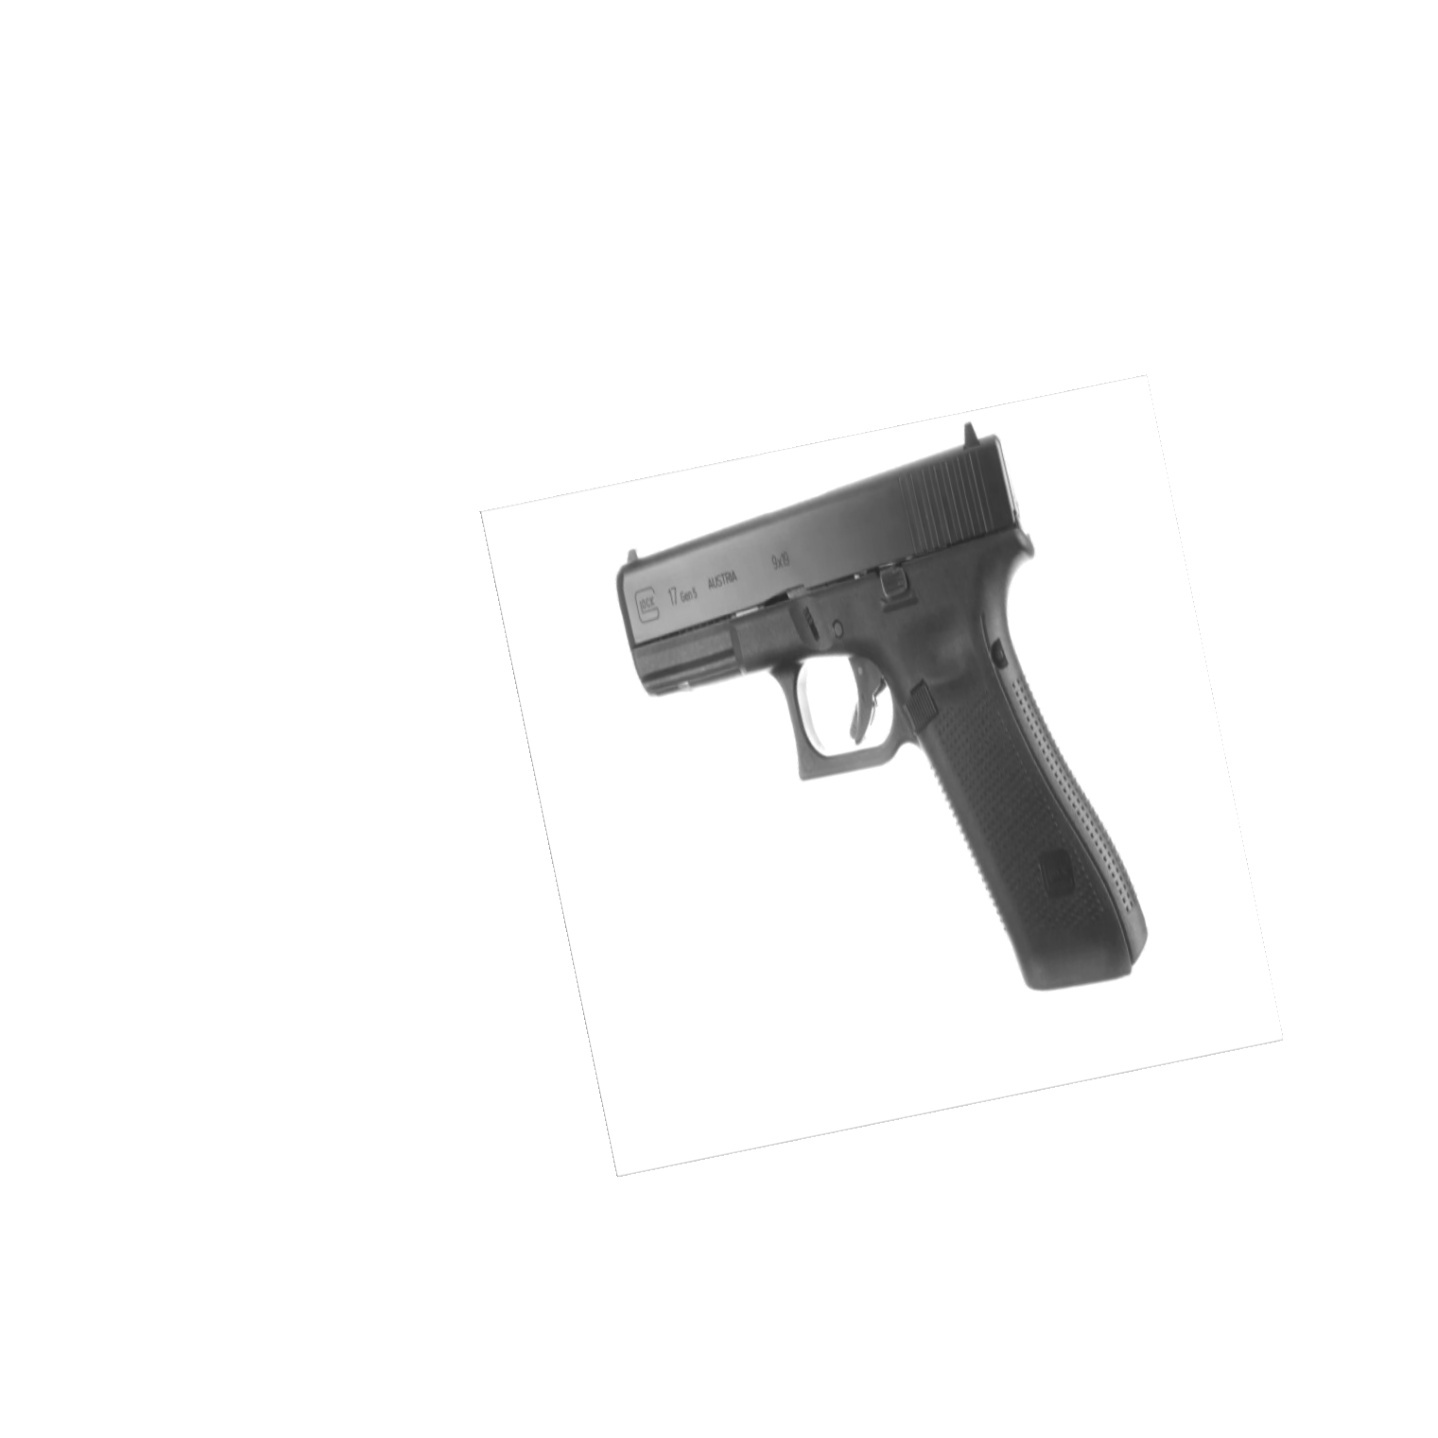gun: (615, 416, 1152, 1007)
